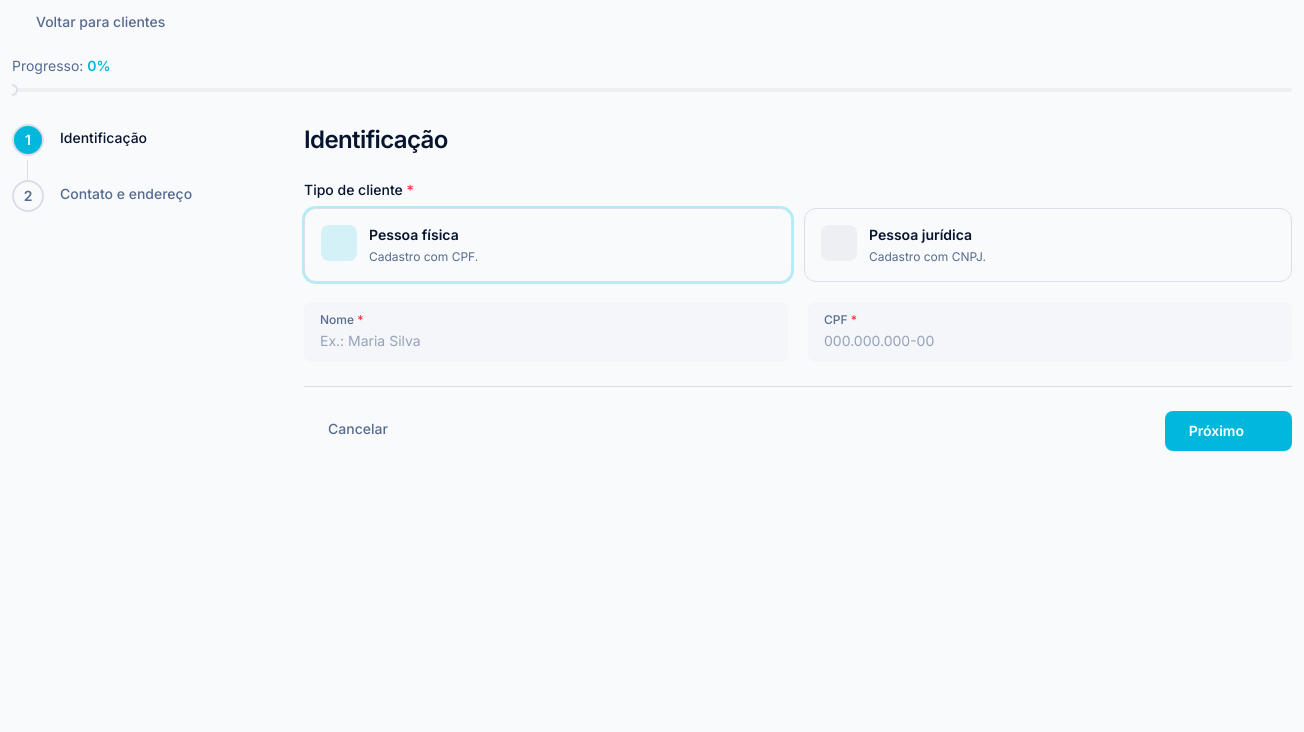
Scenario: CreateCustomerForm — regressão do passo 1 com erros prematuros › avança do passo 0 válido para o passo 1 com TODOS os campos neutros
Type "Maria Silva" into the field labelled "Nome *" at (546, 341), box [320,331,772,351]
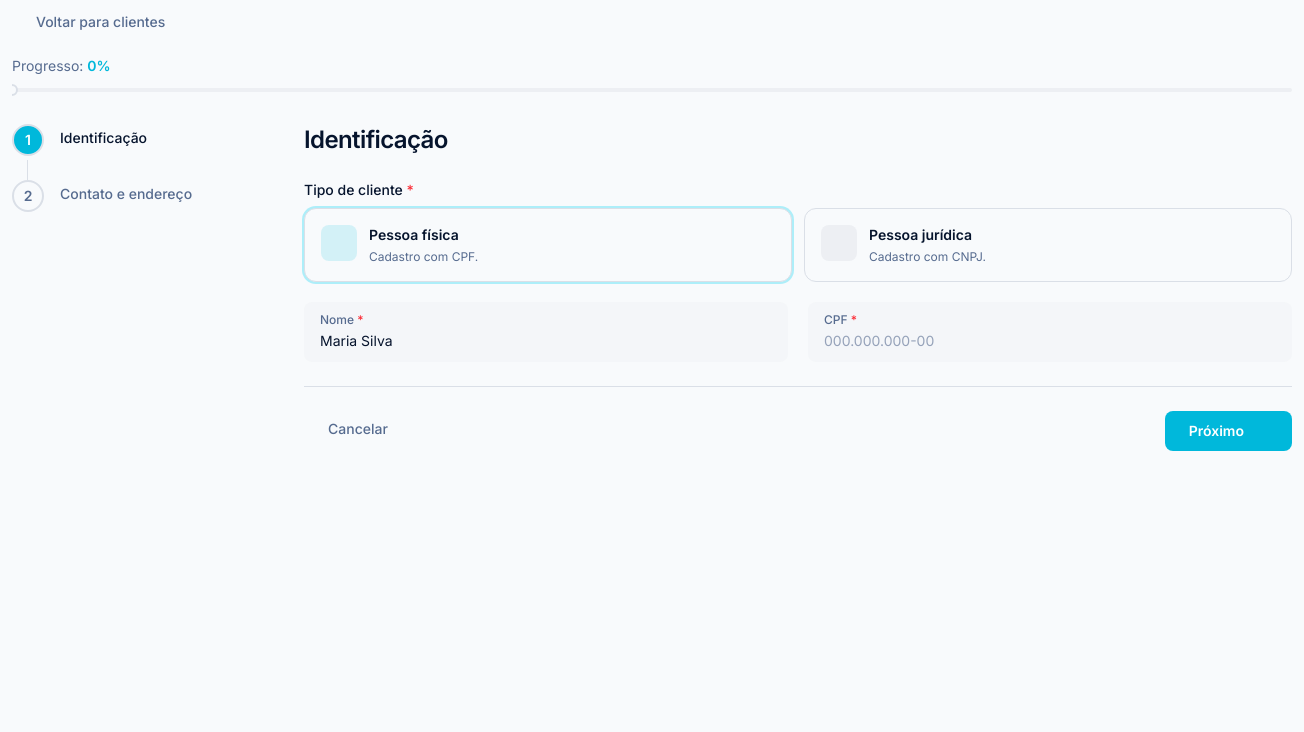
Type "529.982.247-25" into the field labelled "CPF *" at (1050, 341), box [824,331,1276,351]
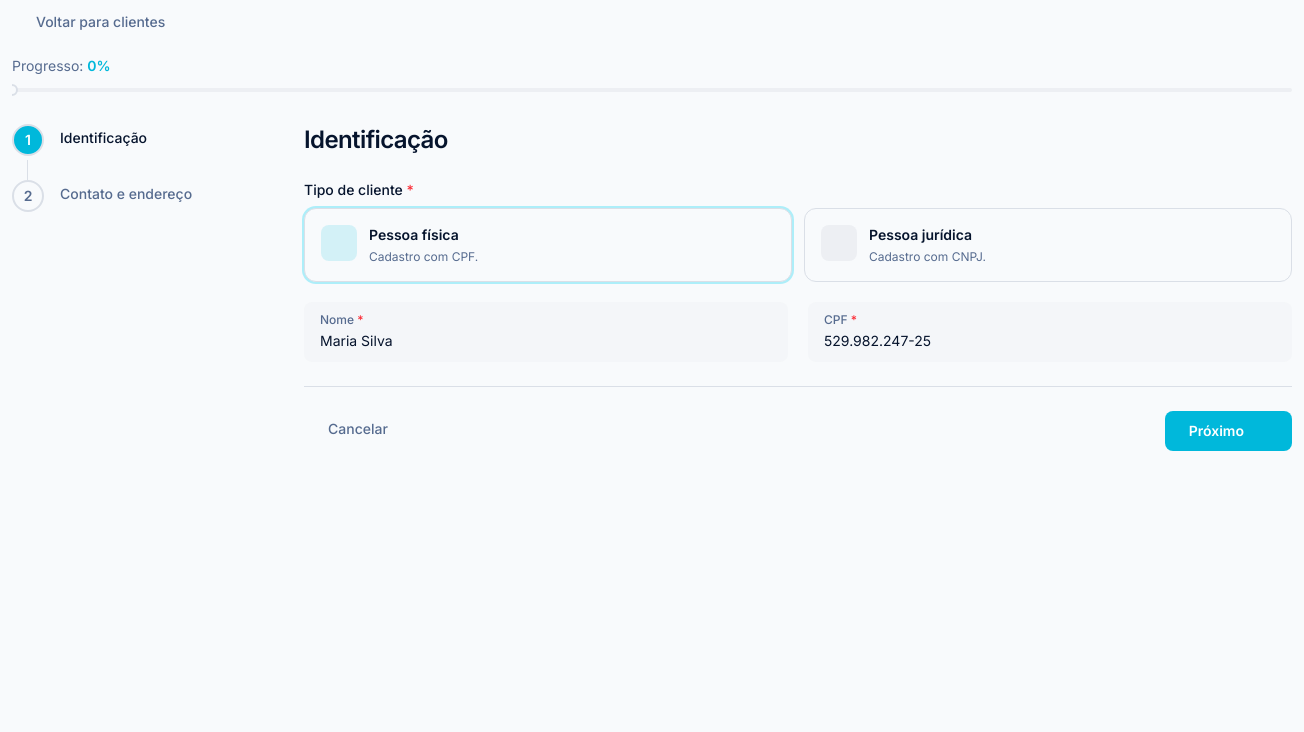
Click the button "Próximo" at (1228, 431), box [1165,411,1292,451]
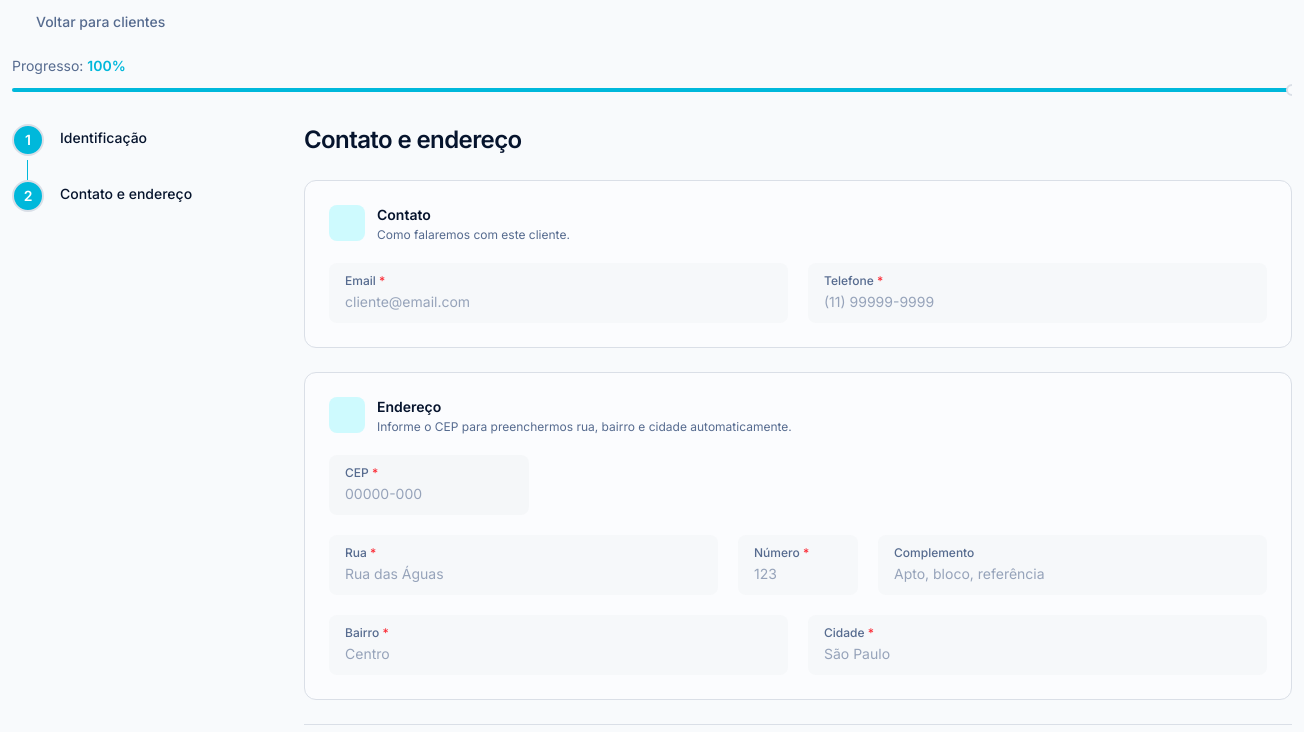
expect the field labelled "Email *" is shown: met, box [345,292,772,312]
